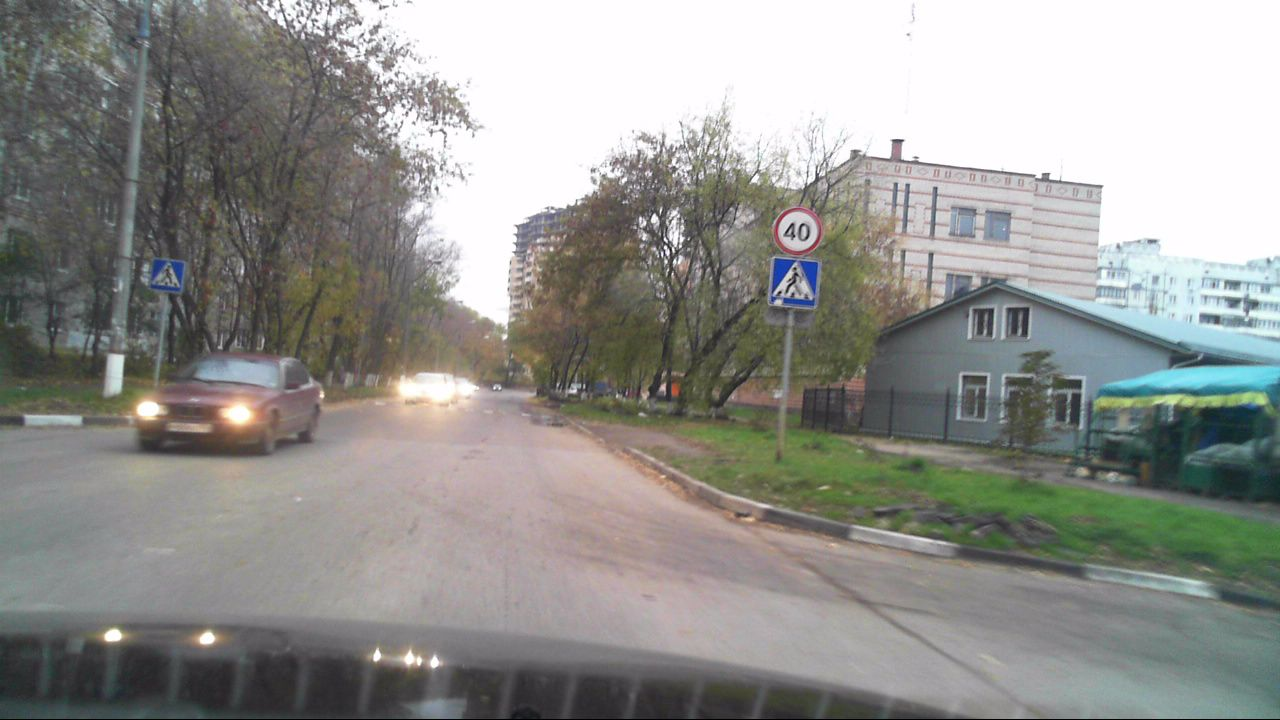speed_warning_40: (773, 209, 820, 256)
